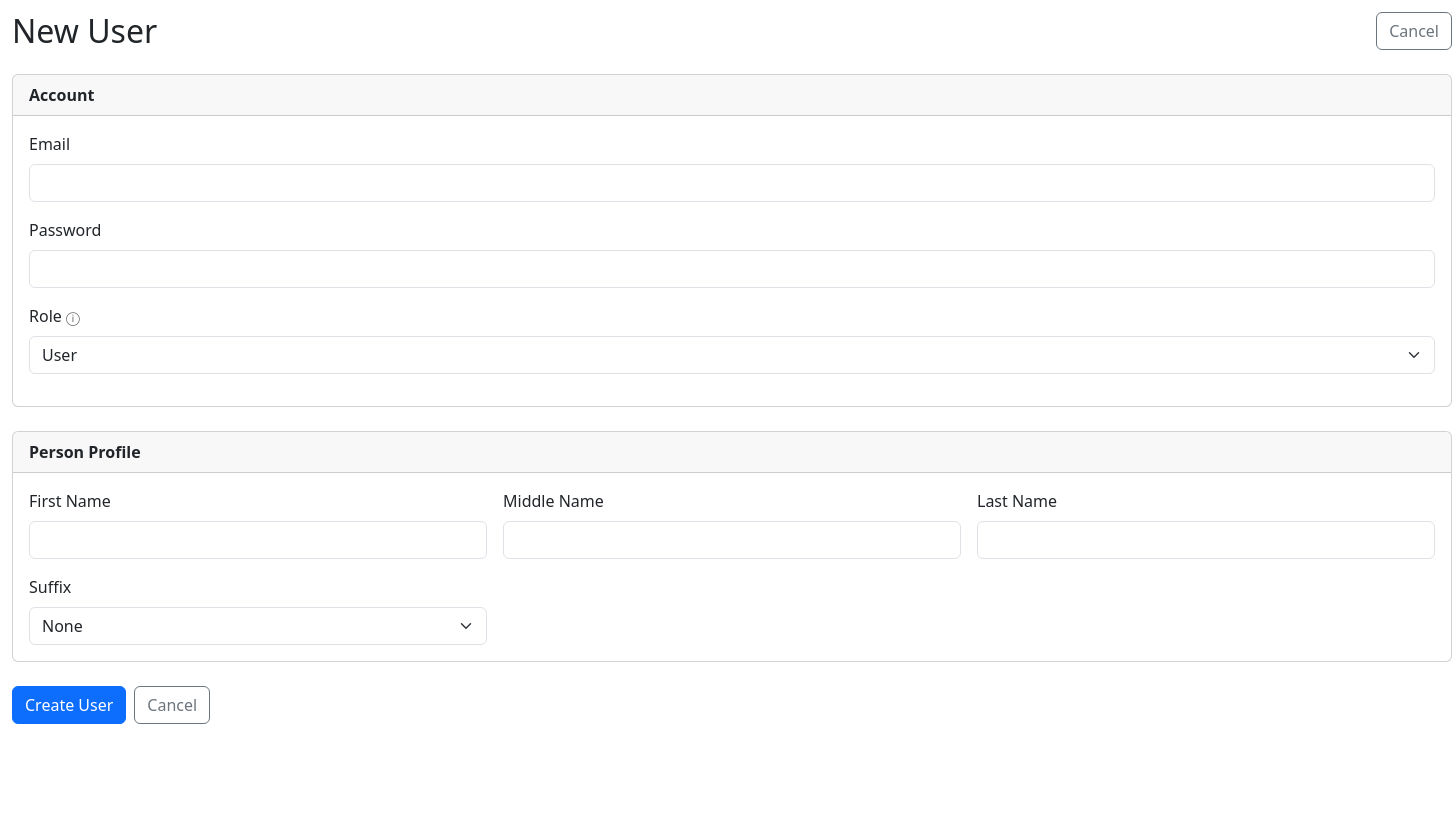
it: UserFormPage › Create mode › shows API error on failed create
Type "alice@example.com" into the field labelled "Email" at (732, 183), box [29,164,1435,202]
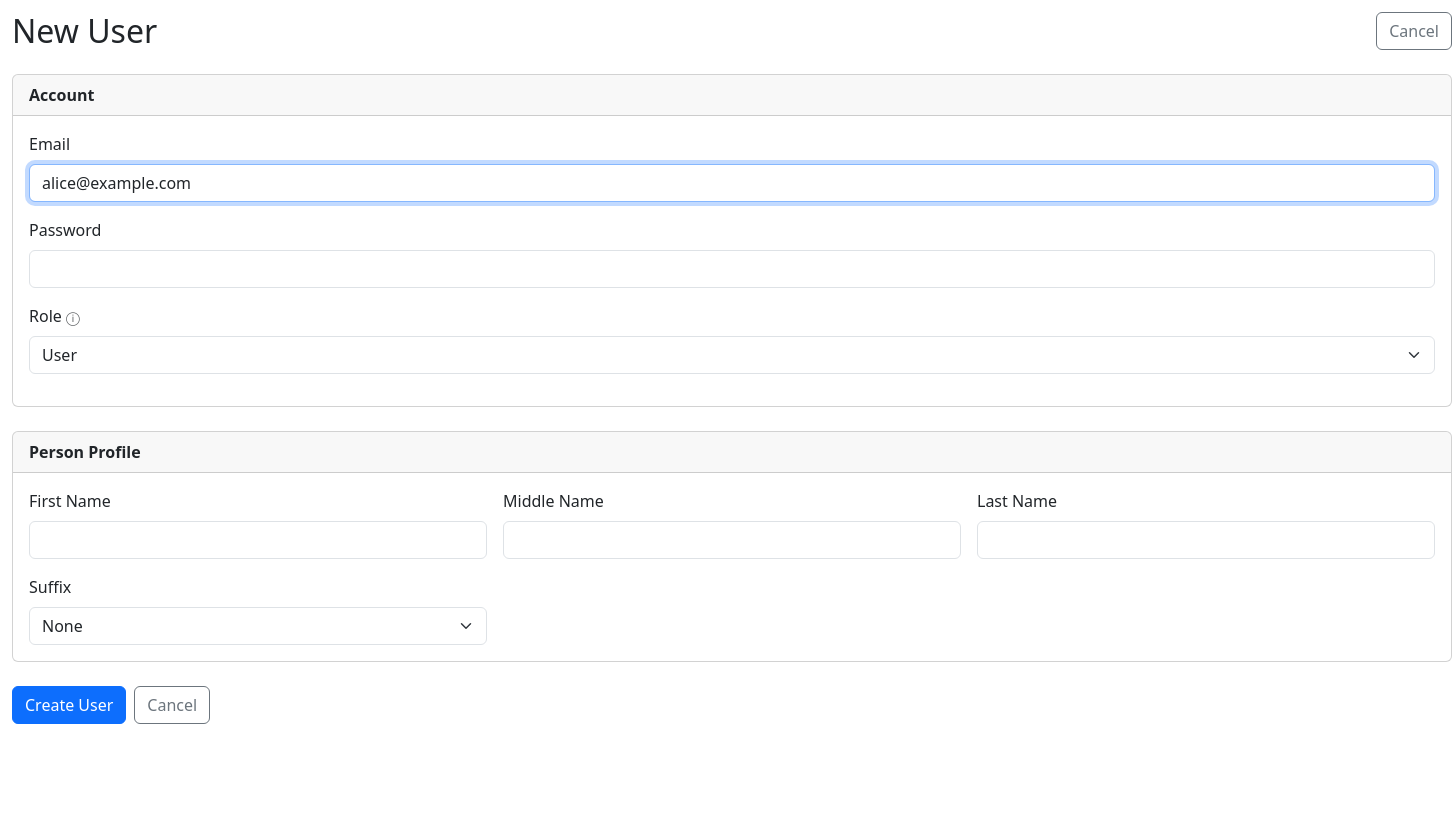
Type "secret123" into the password field labelled "Password" at (732, 269), box [29,250,1435,288]
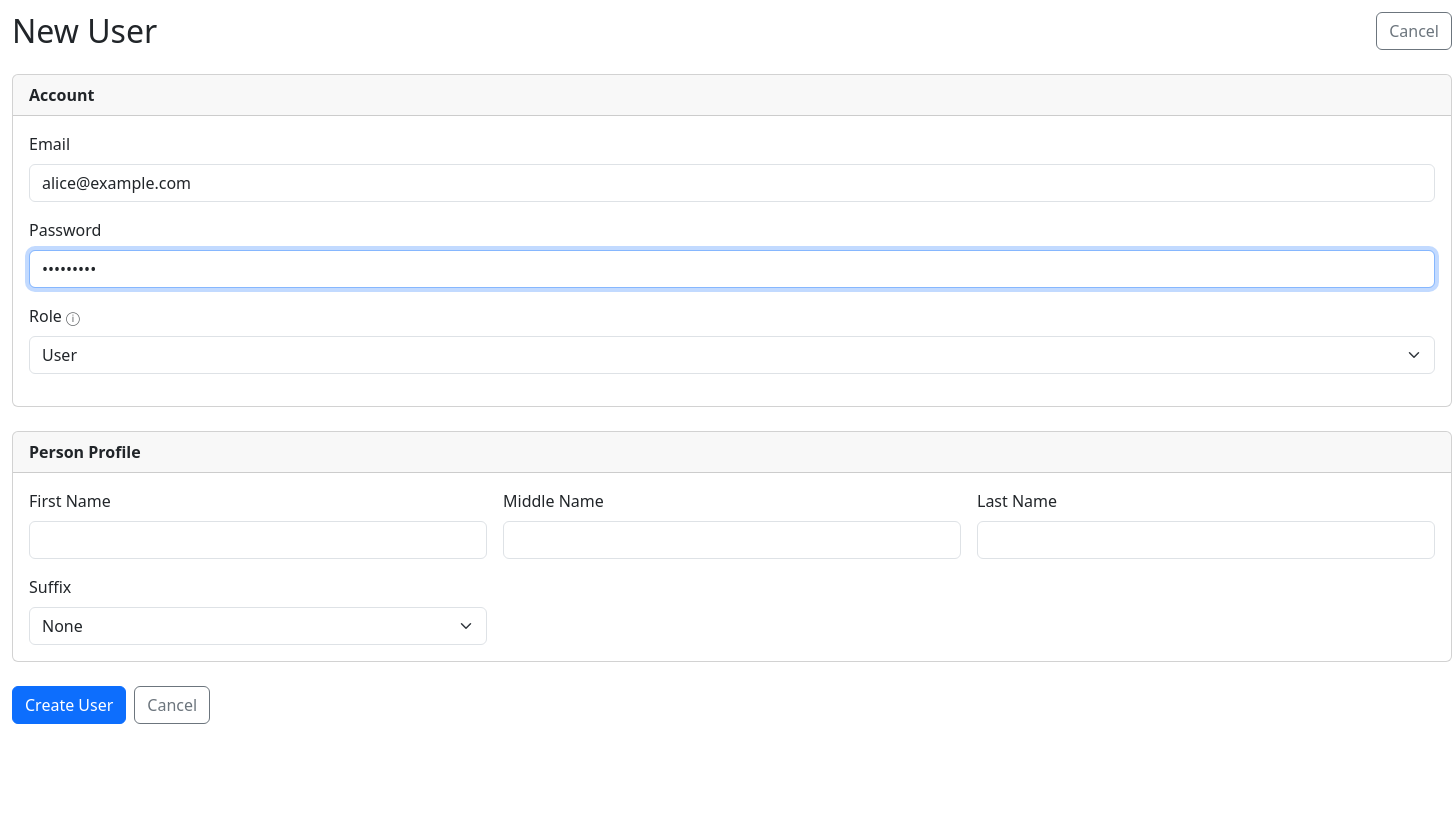
Click the button "Create User" at (69, 705), box [12,686,126,724]
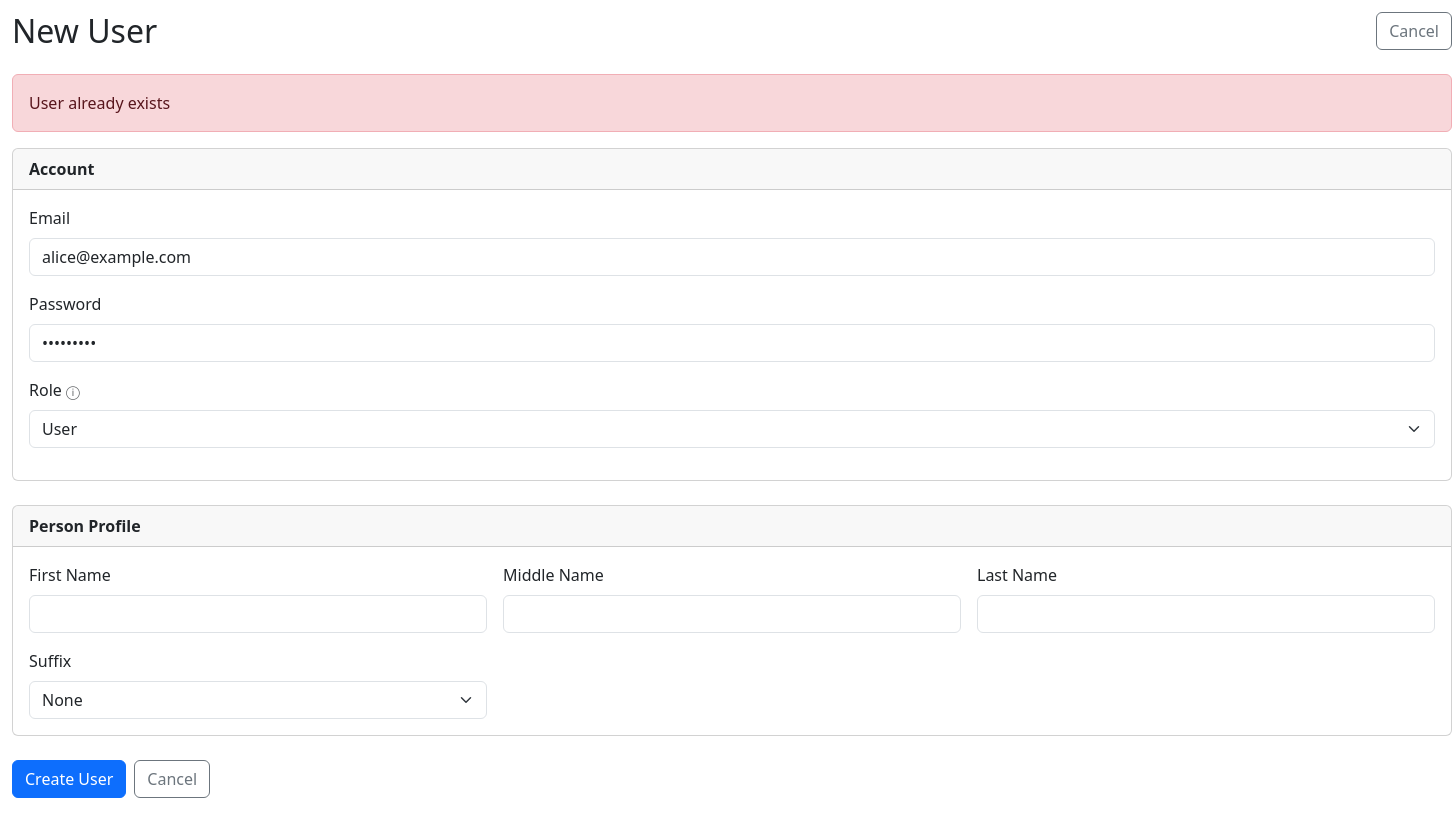
Expected: the text "User already exists" is shown, [12,74,1451,132]
